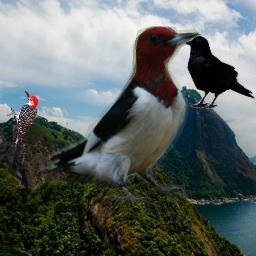Crow: (183, 35, 256, 109)
Woodpecker: (39, 26, 203, 203), (7, 89, 38, 147)
